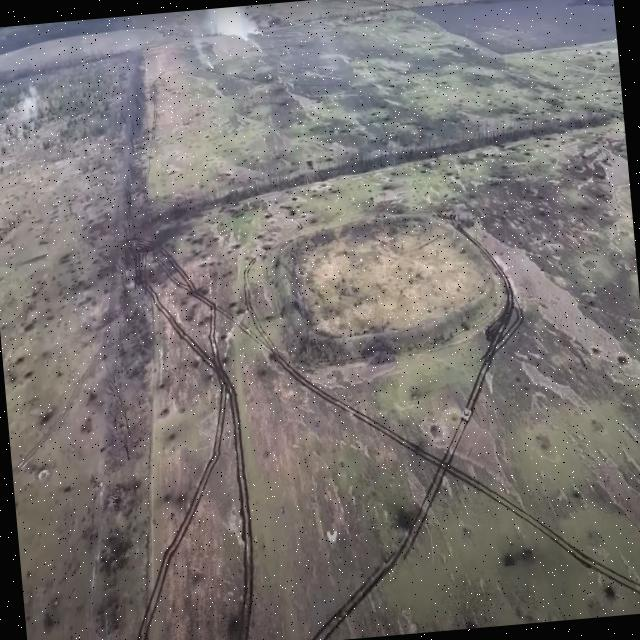AIFV: (264, 210, 275, 221)
MBT: (458, 398, 476, 429)
